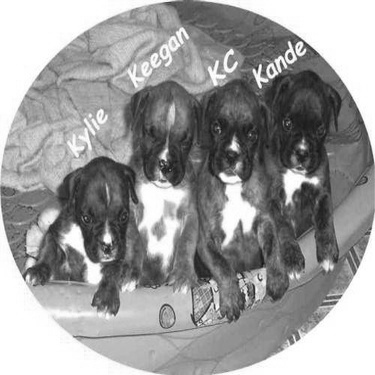dog: (192, 74, 293, 327), (17, 152, 141, 321), (115, 79, 207, 298), (258, 63, 343, 283)
